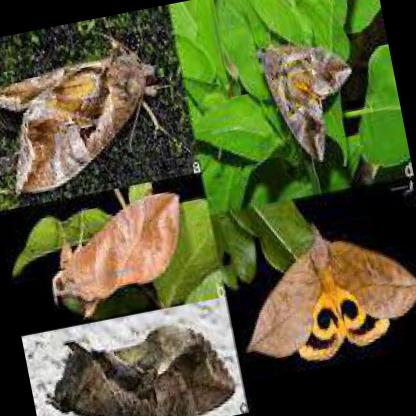fruit sucking moth: (249, 228, 416, 362), (0, 51, 154, 192), (256, 46, 354, 161)
